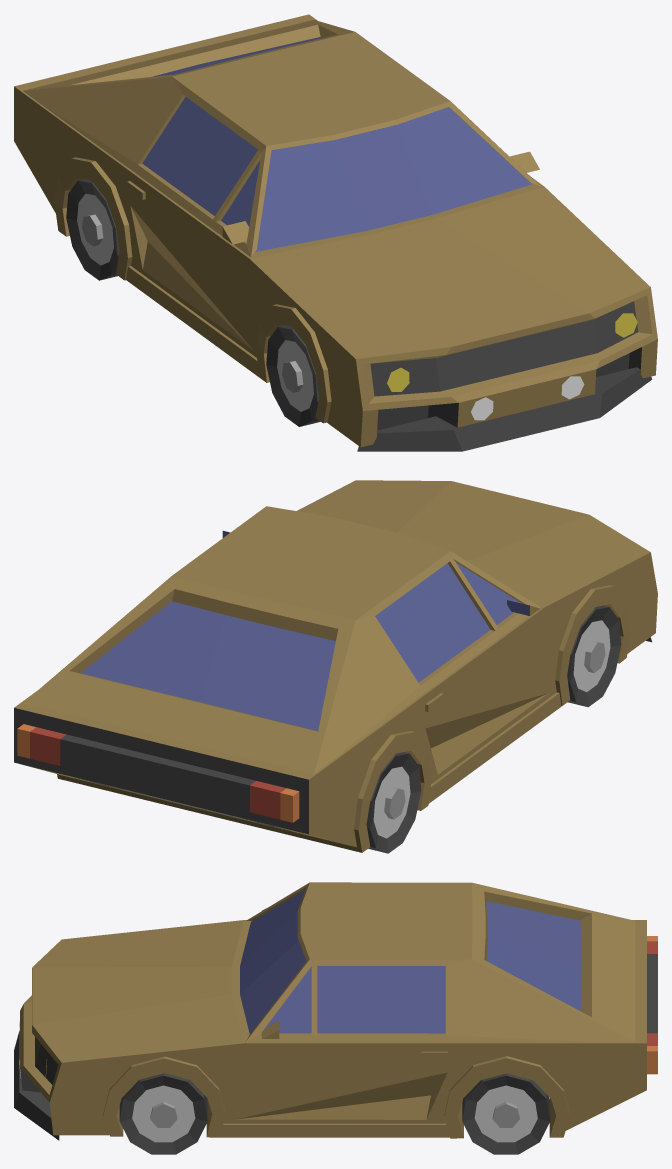
File: transport_jeep_008.fbx
3 renders of one model, top to bottom at view 1: azimuth 30°, elevation 25°; view 2: azimuth 150°, elevation 25°; view 3: azimuth 270°, elevation 25°, orthographic. The views are drawn at different scales.
Parts seen in each view (by area): view 1: transport_jeep_008; view 2: transport_jeep_008; view 3: transport_jeep_008.
Part boxes in pixels (x1=…): transport_jeep_008: x1=14, y1=14, x2=657, y2=451; transport_jeep_008: x1=14, y1=480, x2=657, y2=853; transport_jeep_008: x1=14, y1=882, x2=657, y2=1154.
Size of the model in its own units: 180 by 111 by 382.
